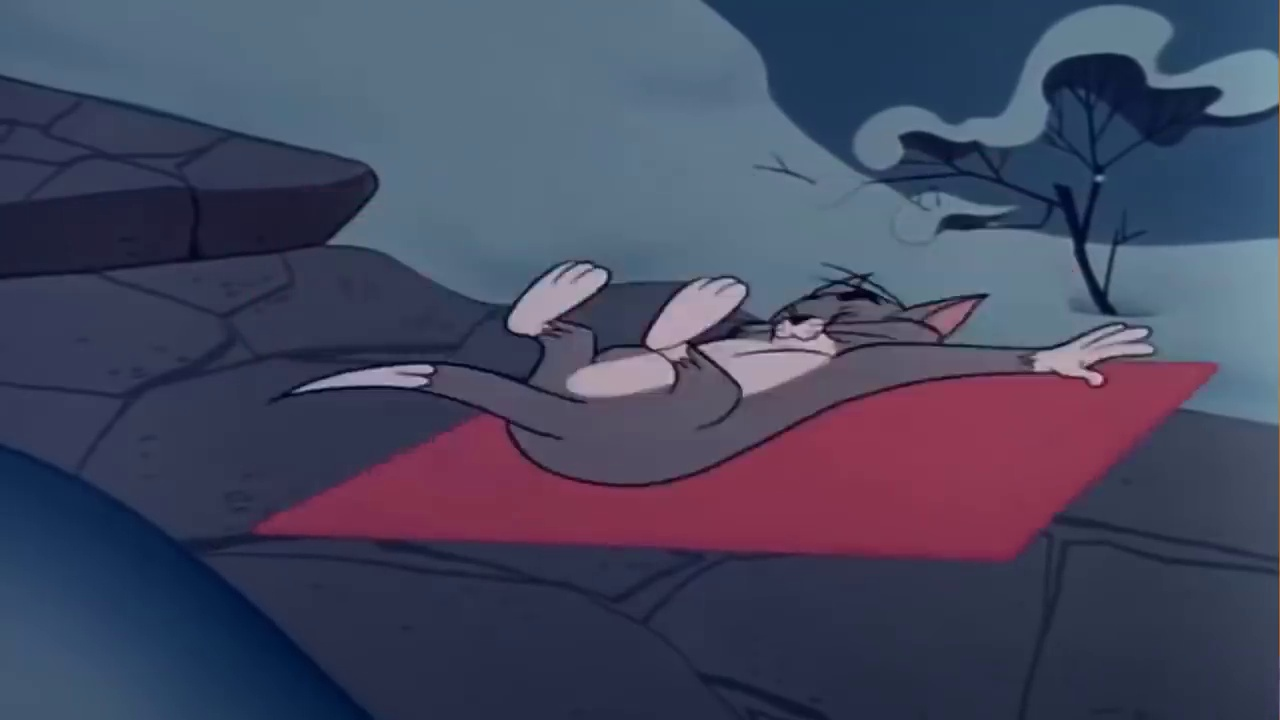face: (769, 285, 883, 348)
